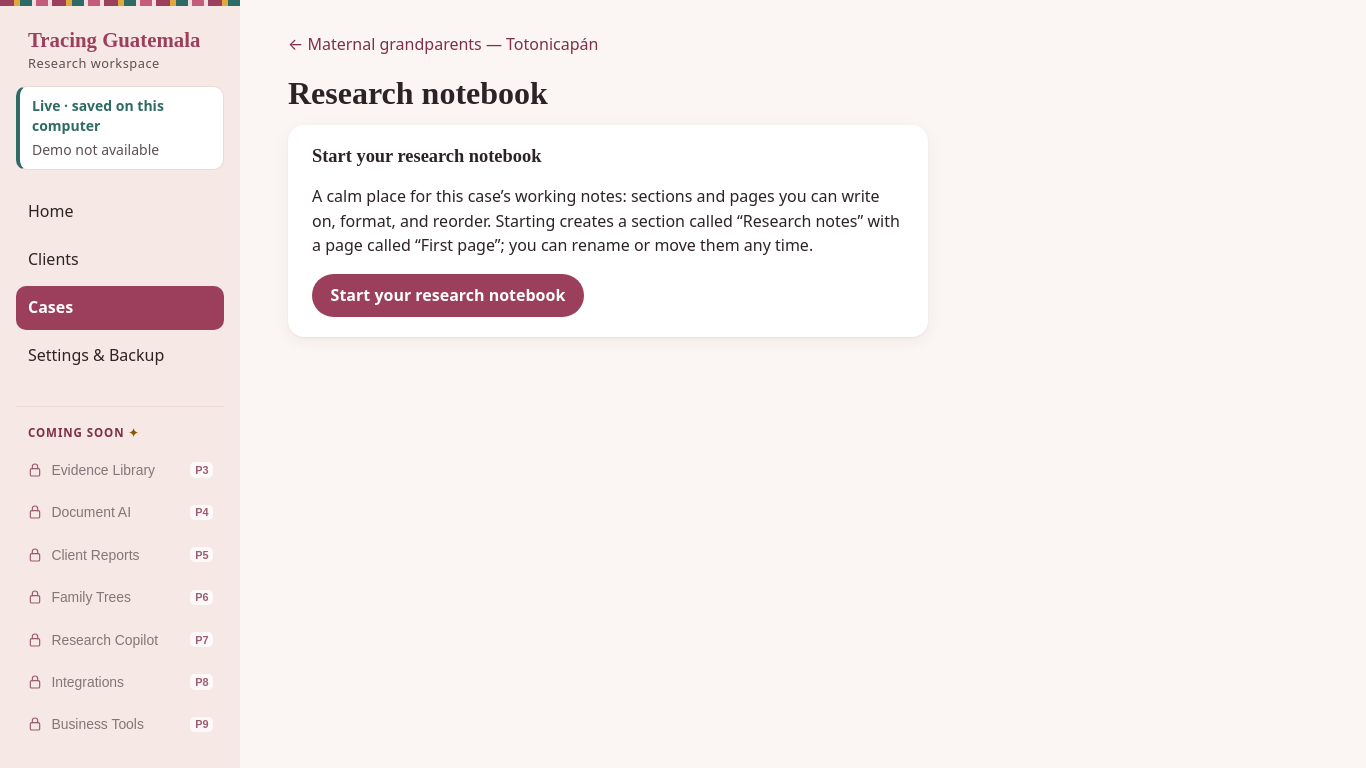
Test: starting and opening › shows a friendly empty state, then creates the first section and page and opens it
Expected: the heading "Start your research notebook" is shown, x1=312 y1=146 x2=541 y2=166
Click the button "Start your research notebook".
click(448, 296)  # box x1=312 y1=274 x2=584 y2=317
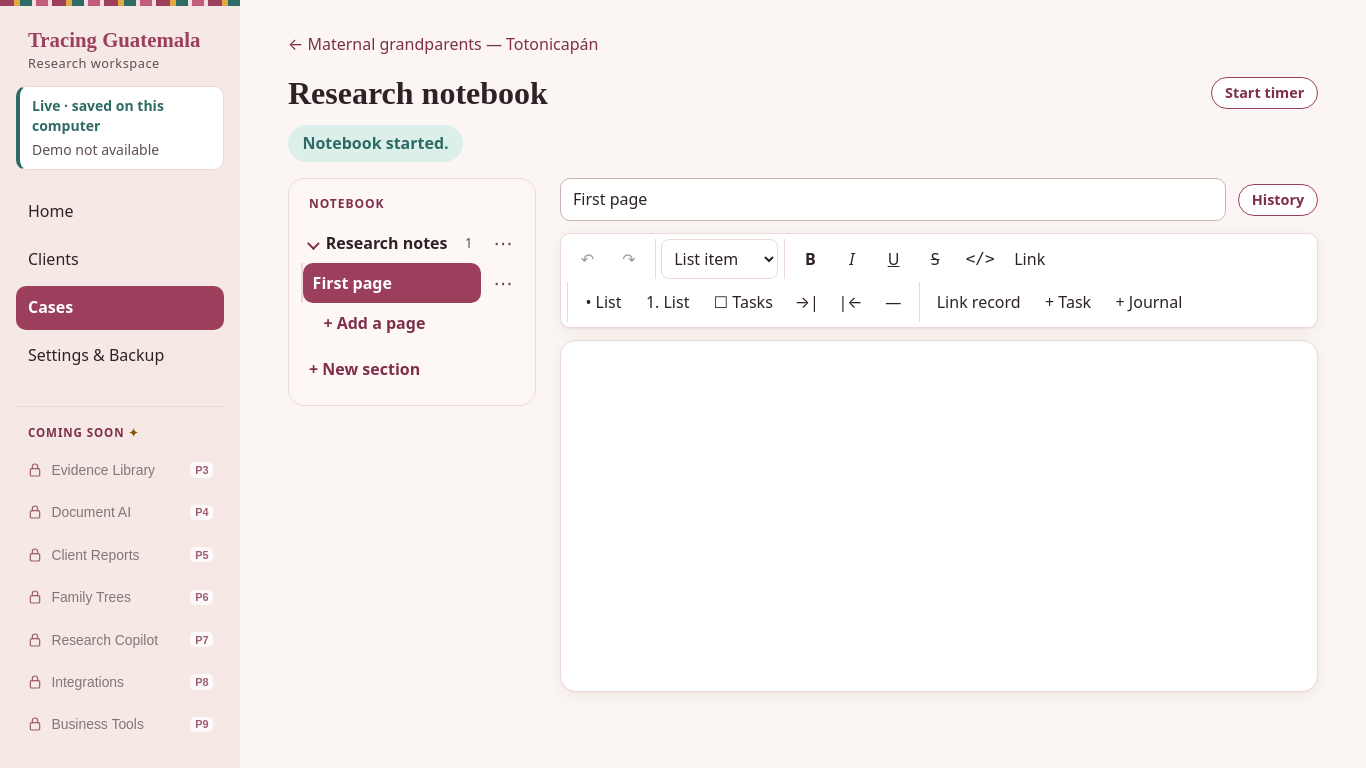
Expected: the button "Research notes 1" is shown, x1=301 y1=223 x2=481 y2=263
